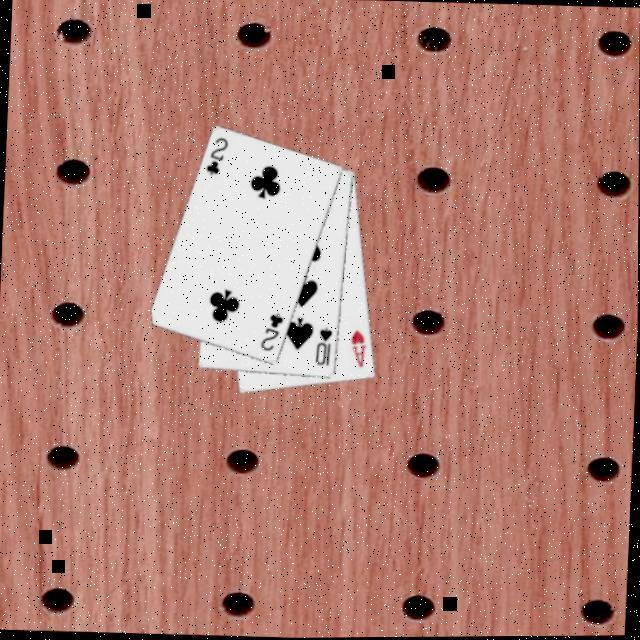10S: (314, 326, 336, 370)
2C: (202, 135, 232, 180), (259, 310, 287, 356)
AH: (348, 327, 372, 372)
